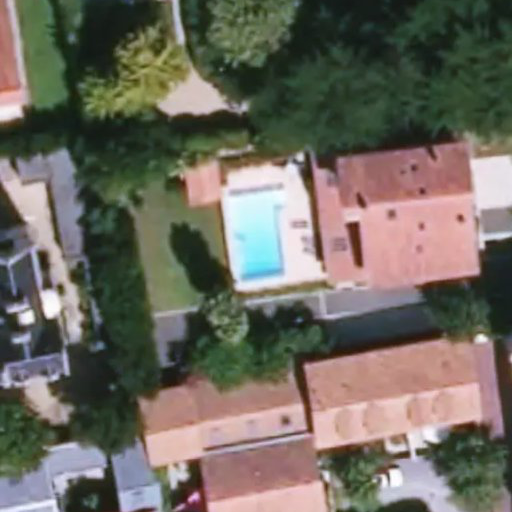pool: (226, 204, 295, 279)
